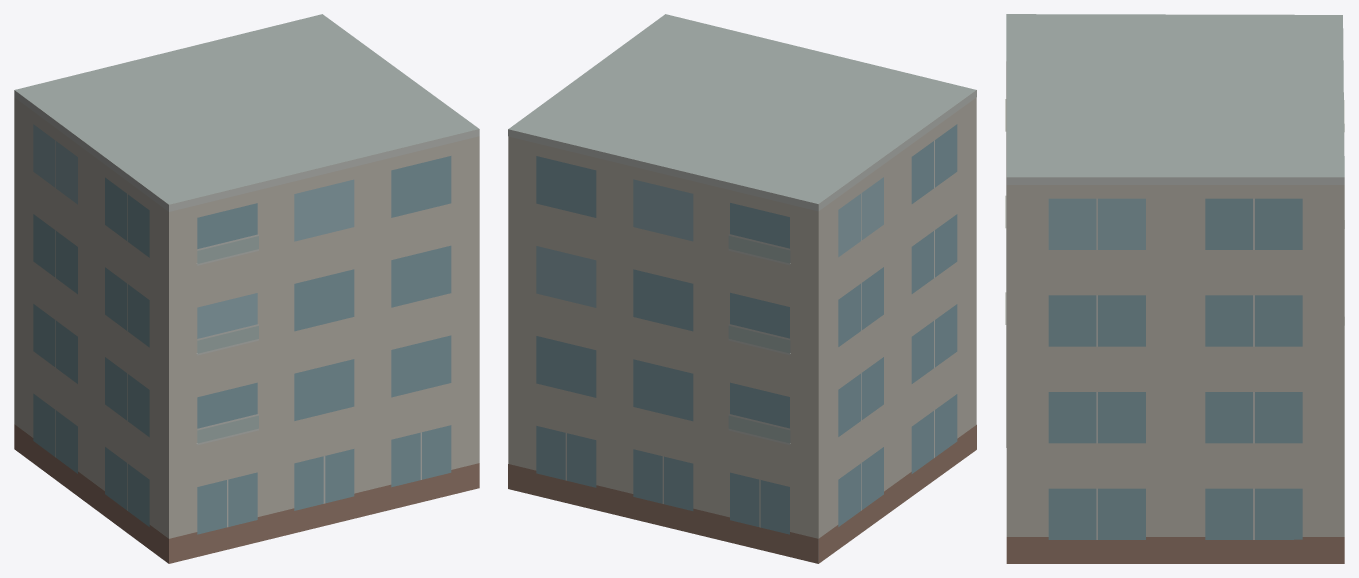
The model's file is survey-upis-32953637.glb.
3 renders of one model, left to right at view 1: azimuth 30°, elevation 25°; view 2: azimuth 150°, elevation 25°; view 3: azimuth 270°, elevation 25°, orthographic. The views are drawn at different scales.
Visible parts, largest first — view 1: survey-upis-32953637.tmp; view 2: survey-upis-32953637.tmp; view 3: survey-upis-32953637.tmp.
Part boxes in pixels (x1,y1,x2,y2): survey-upis-32953637.tmp: (14,14,479,563); survey-upis-32953637.tmp: (508,14,976,563); survey-upis-32953637.tmp: (1005,14,1344,563).
Bounding box in the file's own units: 10.97 × 12.1 × 9.64.
